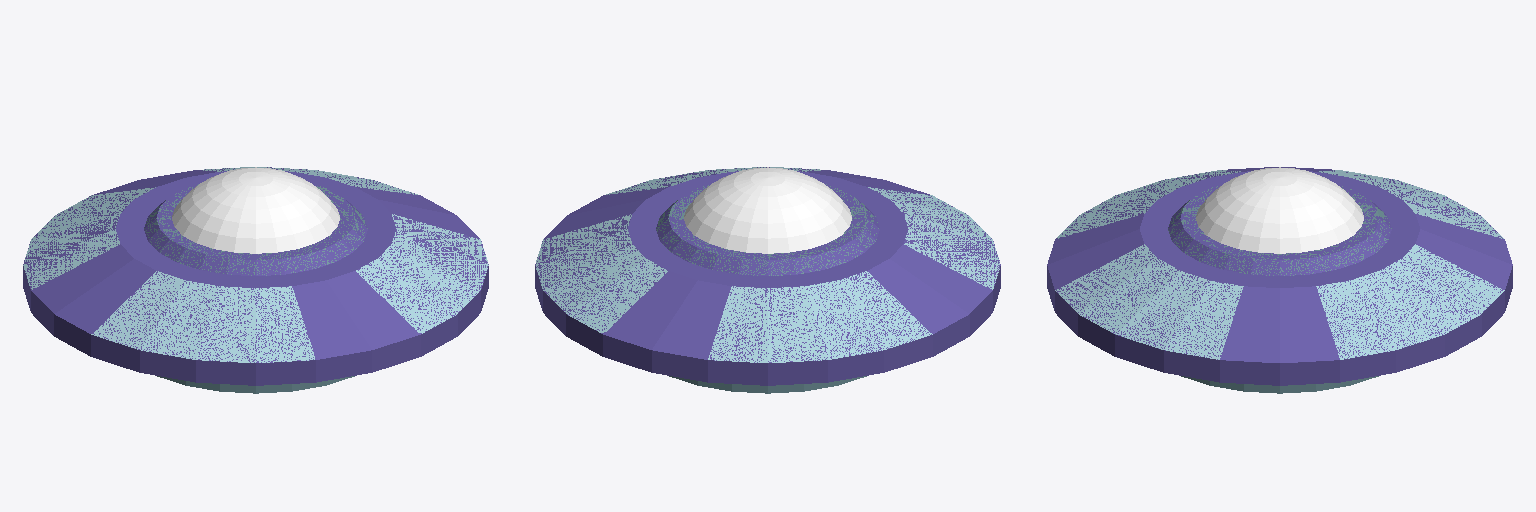
The model's file is enemy_ufoPurple.obj.
The picture shows the model from 3 angles: view 1: azimuth 30°, elevation 25°; view 2: azimuth 150°, elevation 25°; view 3: azimuth 270°, elevation 25°; orthographic projection.
Visible parts, largest first — view 1: enemy_ufoPurple; view 2: enemy_ufoPurple; view 3: enemy_ufoPurple.
Boxes of the visible parts, <box> form: enemy_ufoPurple: <box>23,167,488,393</box>; enemy_ufoPurple: <box>535,167,1000,393</box>; enemy_ufoPurple: <box>1047,167,1512,393</box>.
Bounding box in the file's own units: 1 × 0.3712 × 1.